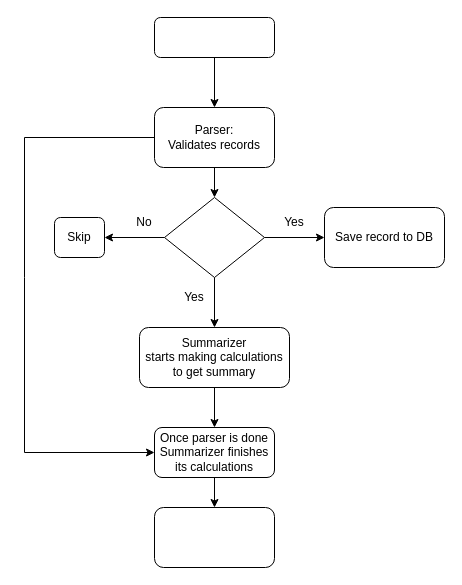
This 462x585 diagram has some shape labels left out. Each missing label, with the centre of its shape:
"Email service this sends summary email." belongs at point (214, 537).
"Is record valid?" belongs at point (214, 237).
"Start the app the CSV file is read" belongs at point (214, 37).
